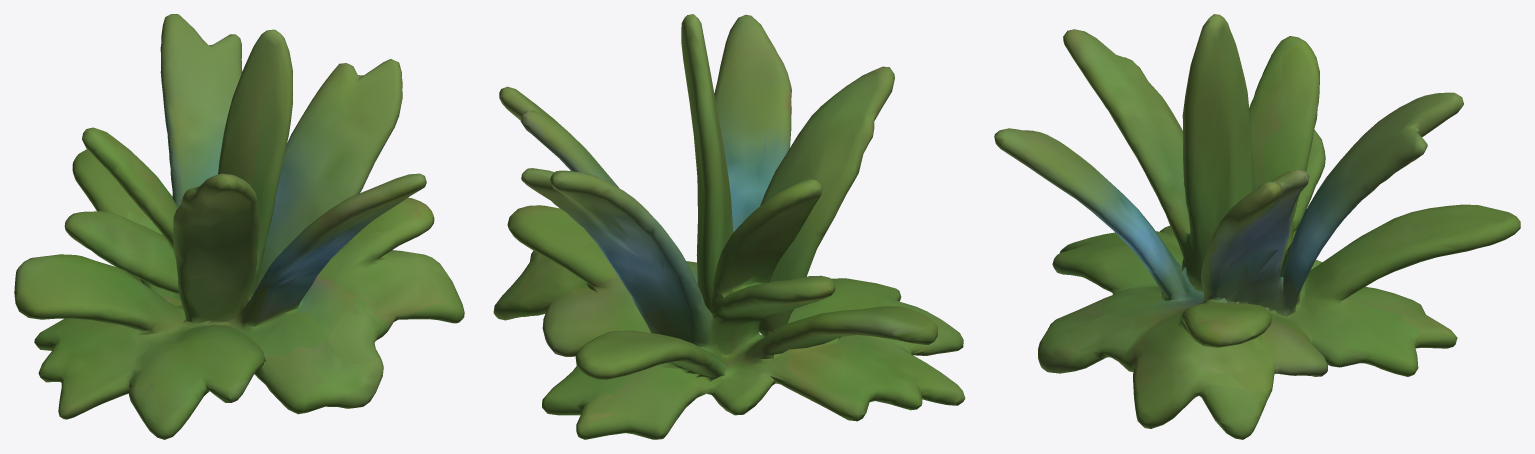
File: planta_agua.glb
3 renders of one model, left to right at view 1: azimuth 30°, elevation 25°; view 2: azimuth 150°, elevation 25°; view 3: azimuth 270°, elevation 25°, orthographic. The views are drawn at different scales.
Visible parts, largest first — view 1: planta_agua_malla; view 2: planta_agua_malla; view 3: planta_agua_malla.
Boxes of the visible parts, <box> form: planta_agua_malla: <box>14,14,464,439</box>; planta_agua_malla: <box>493,14,965,439</box>; planta_agua_malla: <box>994,14,1520,439</box>.
Bounding box in the file's own units: 0.1033 × 0.0776 × 0.1062.
Materials: 1 (1 with a texture image).
